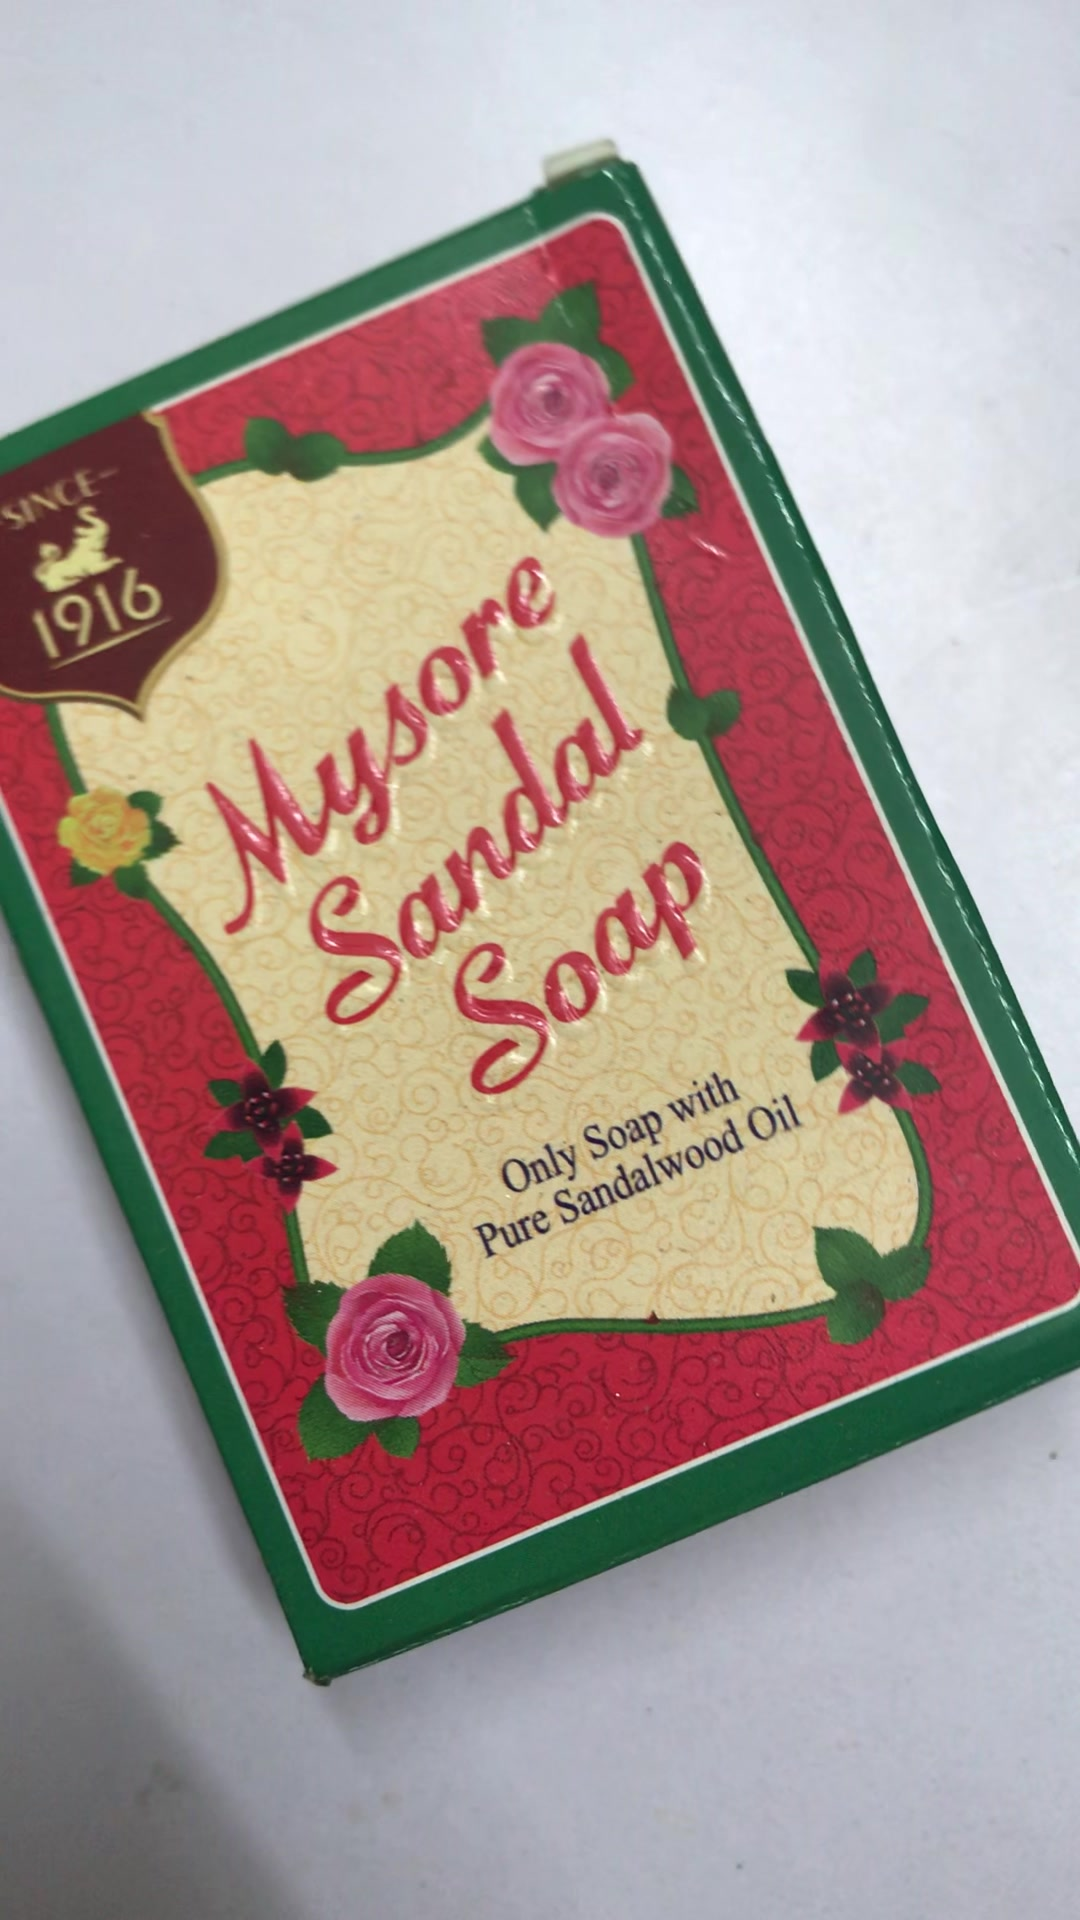mysore sandal soap: (3, 164, 1080, 1679)
